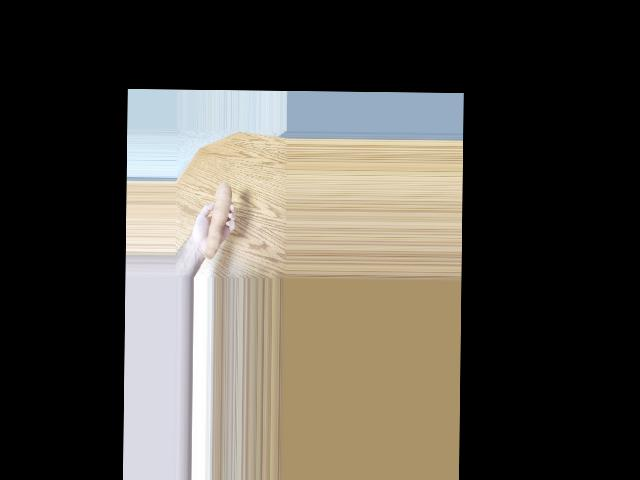sweet_potato: (201, 178, 236, 255)
